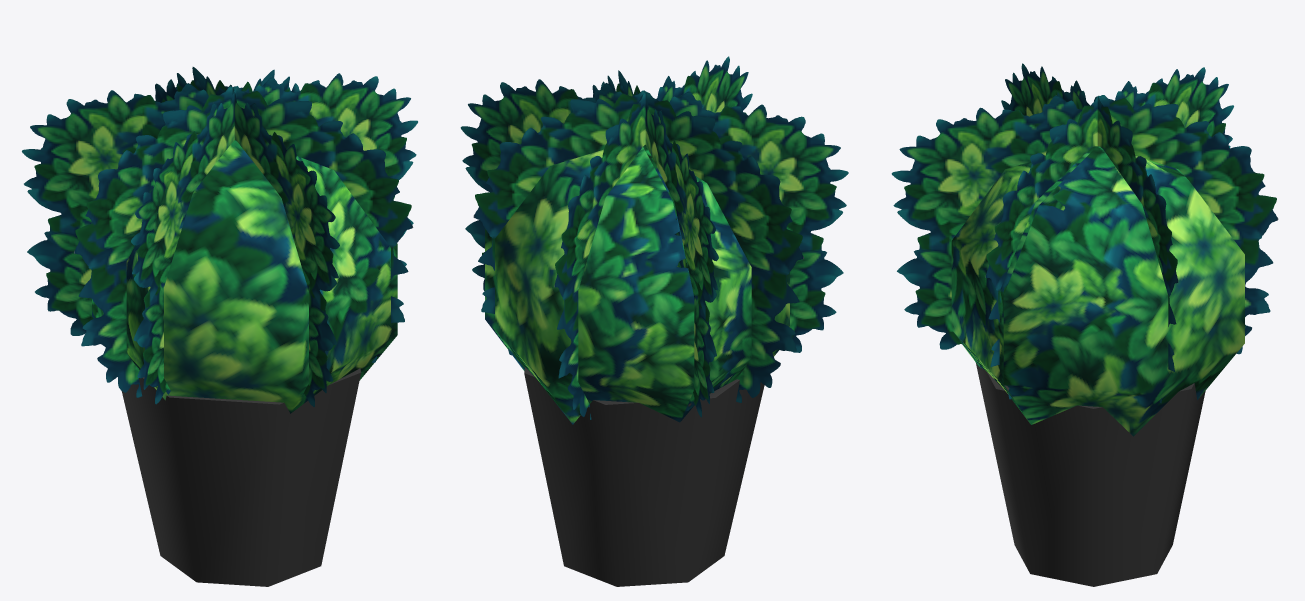
Rendered from SM_PROP_PLANT_pot_v6_01.FBX.
The picture shows the model from 3 angles, left to right: view 1: azimuth 30°, elevation 25°; view 2: azimuth 150°, elevation 25°; view 3: azimuth 270°, elevation 25°; orthographic projection. The views are drawn at different scales.
Parts seen in each view (by area): view 1: SM_PROP_PLANT_pot_v6_01; view 2: SM_PROP_PLANT_pot_v6_01; view 3: SM_PROP_PLANT_pot_v6_01.
Part boxes in pixels (x1,y1,x2,y2): SM_PROP_PLANT_pot_v6_01: (22, 67, 417, 586); SM_PROP_PLANT_pot_v6_01: (460, 56, 848, 586); SM_PROP_PLANT_pot_v6_01: (891, 63, 1278, 586).
Size of the model in its own units: 76.39 by 76.39 by 94.27.
